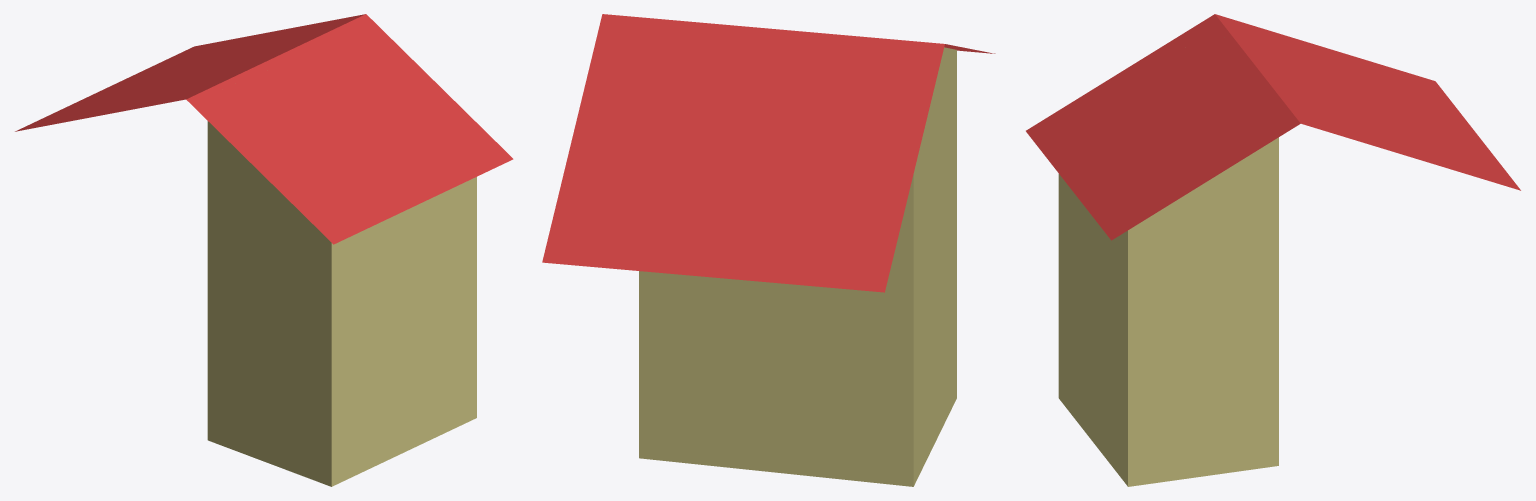
3 views of the same model, side by side, from view 1: azimuth 30°, elevation 25°; view 2: azimuth 150°, elevation 25°; view 3: azimuth 270°, elevation 25° (orthographic). The views are drawn at different scales.
Size of the model in its own units: 7.51 by 9.42 by 7.35.
